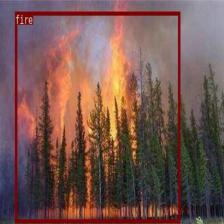fire: (14, 11, 180, 222)
